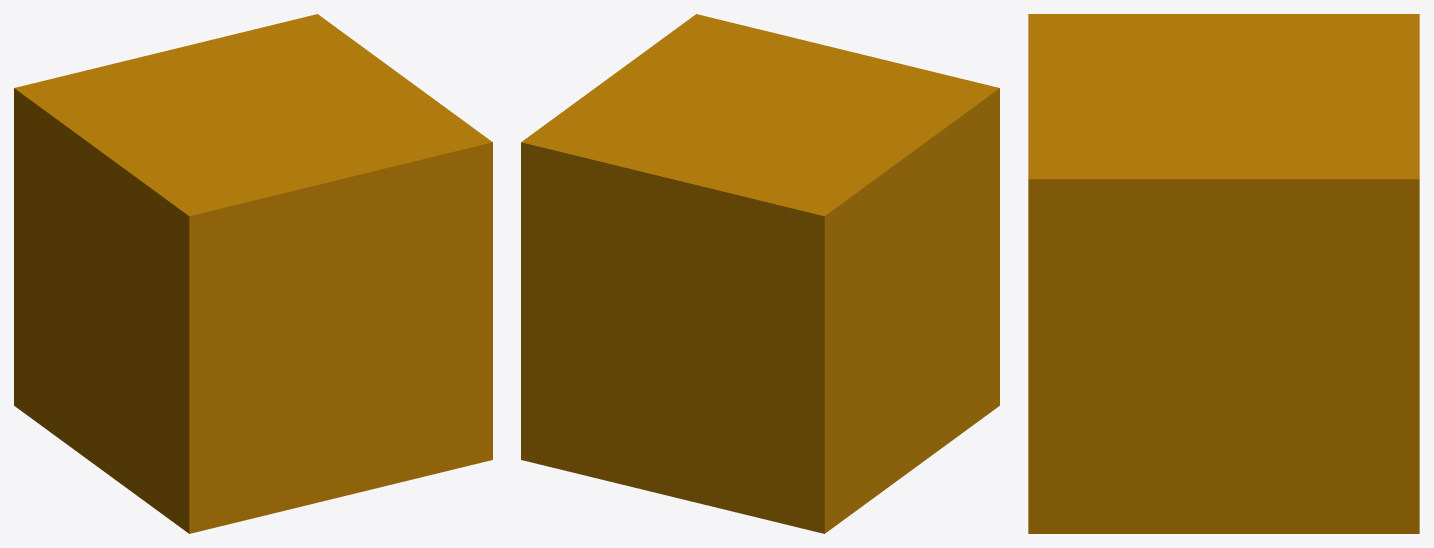
Rendered from block.fbx.
The picture shows the model from 3 angles, left to right: view 1: azimuth 30°, elevation 25°; view 2: azimuth 150°, elevation 25°; view 3: azimuth 270°, elevation 25°; orthographic projection. The views are drawn at different scales.
Visible parts, largest first — view 1: pCube1; view 2: pCube1; view 3: pCube1.
Boxes of the visible parts, x1,y1,x2,y2 form: pCube1: (14, 14, 492, 533); pCube1: (521, 14, 999, 533); pCube1: (1028, 14, 1419, 533).
Size of the model in its own units: 100 by 100 by 100.
